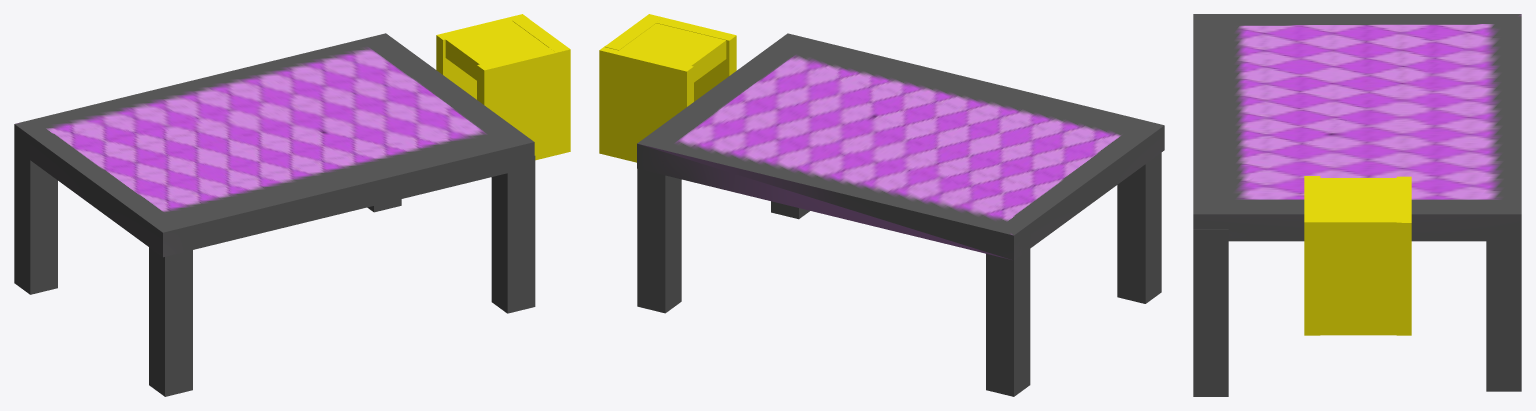
The picture shows the model from 3 angles, left to right: view 1: azimuth 30°, elevation 25°; view 2: azimuth 150°, elevation 25°; view 3: azimuth 270°, elevation 25°; orthographic projection. The views are drawn at different scales.
Visible parts, largest first — view 1: node_id6, node_id22, node_id12, node_id18, node_id15, node_id29, node_id25, node_id33; view 2: node_id6, node_id25, node_id15, node_id9, node_id18, node_id29, node_id22, node_id33; view 3: node_id6, node_id33, node_id12, node_id9, node_id29, node_id25, node_id22.
Part boxes in pixels (box(x1,y1,x2,y2)): node_id6: box(14, 33, 534, 257); node_id22: box(477, 47, 570, 160); node_id12: box(491, 156, 535, 313); node_id18: box(149, 247, 192, 396); node_id15: box(14, 132, 57, 294); node_id29: box(445, 22, 548, 80); node_id25: box(436, 14, 527, 99); node_id33: box(512, 17, 569, 52); node_id6: box(637, 33, 1164, 260); node_id25: box(599, 46, 693, 162); node_id15: box(986, 232, 1030, 396); node_id9: box(637, 157, 681, 313); node_id18: box(1117, 152, 1161, 303); node_id29: box(621, 23, 726, 82); node_id22: box(656, 16, 736, 101); node_id33: box(604, 14, 663, 50); node_id6: box(1193, 14, 1521, 241); node_id33: box(1304, 214, 1401, 335); node_id12: box(1193, 229, 1228, 396); node_id9: box(1486, 241, 1521, 391); node_id29: box(1320, 178, 1396, 214); node_id25: box(1396, 176, 1411, 335); node_id22: box(1304, 176, 1320, 335).
Size of the model in its own units: 0.512 by 0.2133 by 0.2873.
11 materials, 11 textured.
